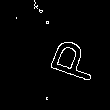P_W: (35, 34, 98, 87)
